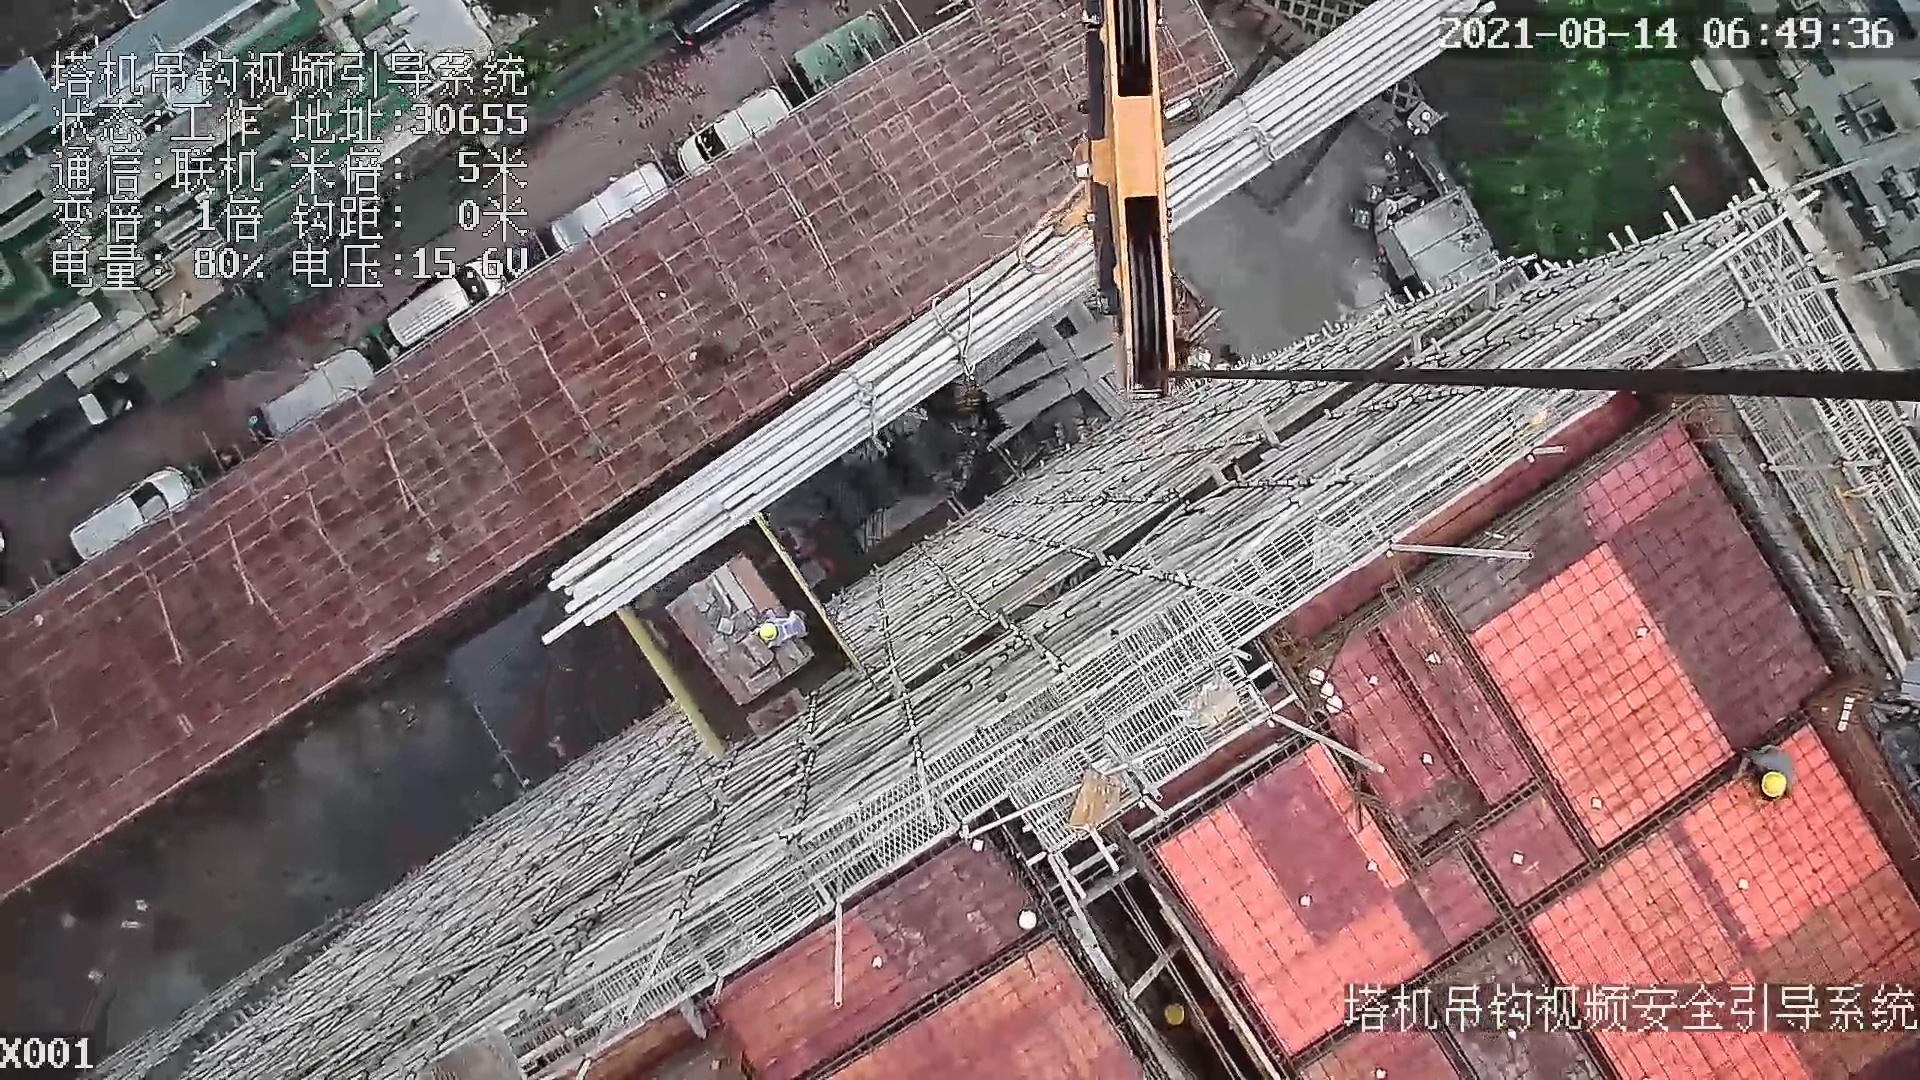helmet: (1755, 766, 1793, 812), (1160, 995, 1191, 1028), (757, 620, 782, 642)
hook: (1042, 1, 1179, 408)
person: (1736, 737, 1791, 809), (747, 608, 812, 649)
